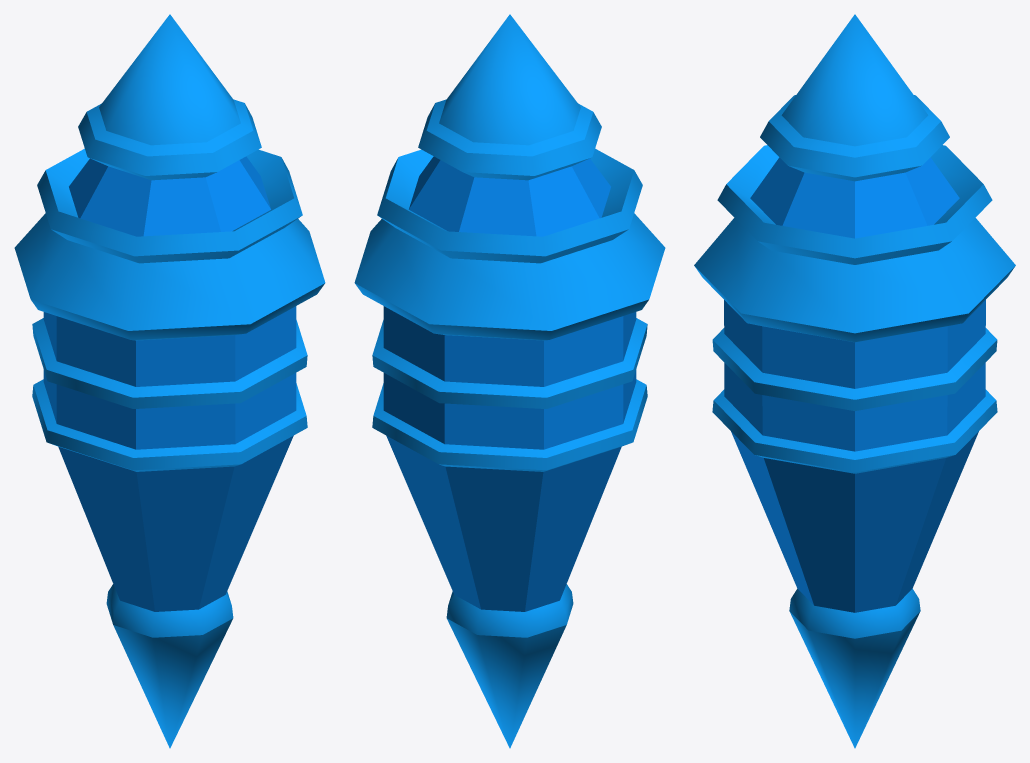
The model's file is crystal.fbx.
The picture shows the model from 3 angles, left to right: view 1: azimuth 30°, elevation 25°; view 2: azimuth 150°, elevation 25°; view 3: azimuth 270°, elevation 25°; orthographic projection.
Parts seen in each view (by area): view 1: Cone.001; view 2: Cone.001; view 3: Cone.001.
Boxes of the visible parts, x1,y1,x2,y2 form: Cone.001: (14,14,325,748); Cone.001: (354,14,665,748); Cone.001: (694,14,1015,748).
Bounding box in the file's own units: 199 × 199 × 502.
